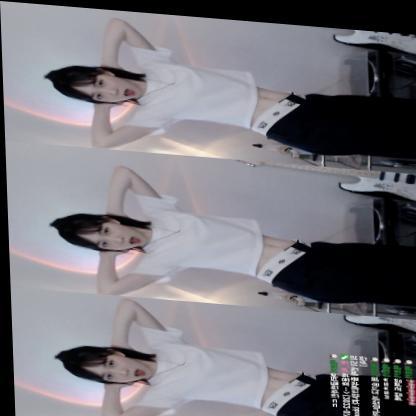streamer: (42, 10, 416, 166), (45, 158, 416, 312), (49, 291, 416, 416)
